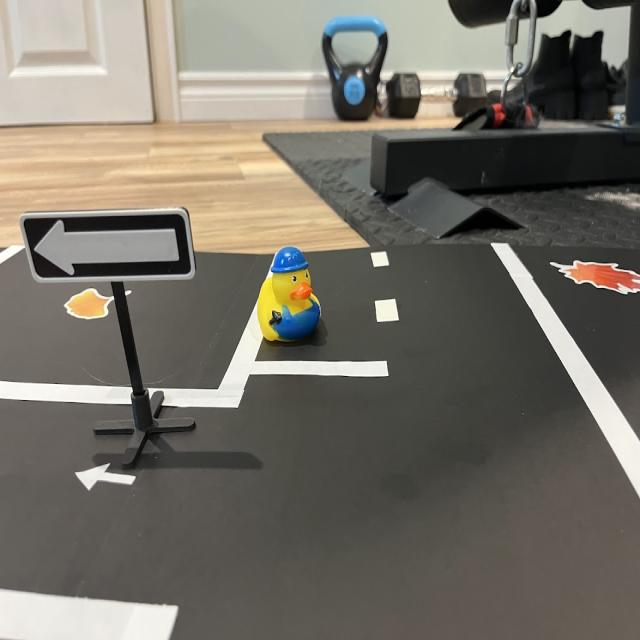duck_specialty: (258, 248, 322, 343)
road_oneway: (71, 457, 142, 498)
sign_oneway_left: (22, 208, 197, 286)
